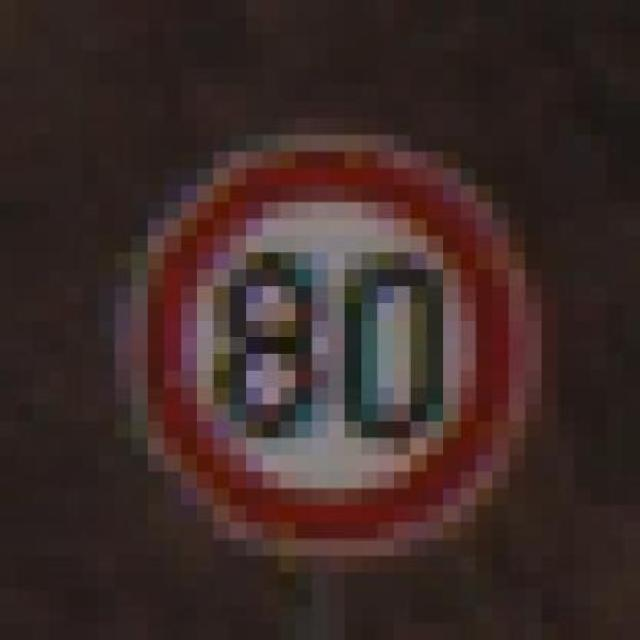forb_speed_over_80: (141, 143, 530, 551)
